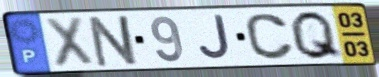9: (148, 15, 185, 64)
C: (243, 12, 297, 61)
J: (196, 13, 233, 63)
N: (87, 13, 142, 69)
Q: (287, 9, 346, 62)
X: (42, 15, 97, 70)
